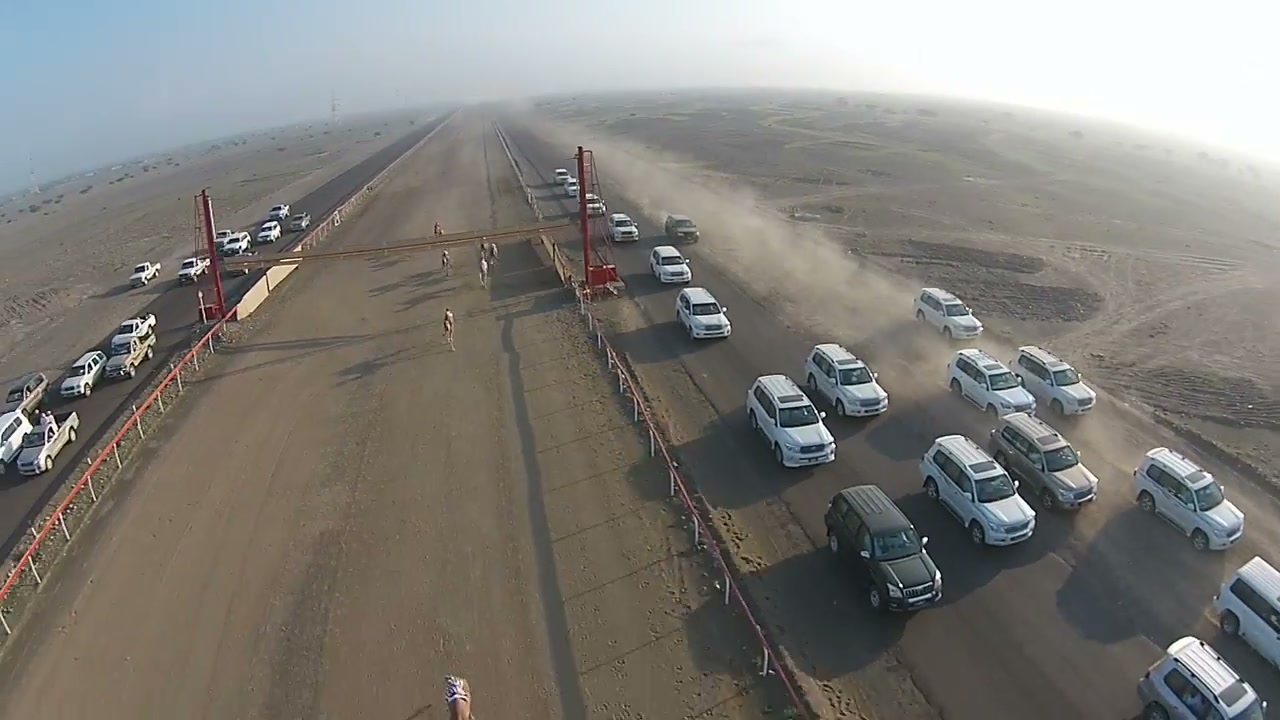animal_footprint: (531, 300, 775, 719)
